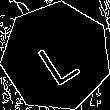L_NW: (29, 27, 83, 86)
